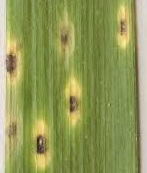Bercak Coklat: (113, 12, 134, 41), (34, 129, 53, 161), (64, 87, 81, 119), (6, 47, 20, 83)
